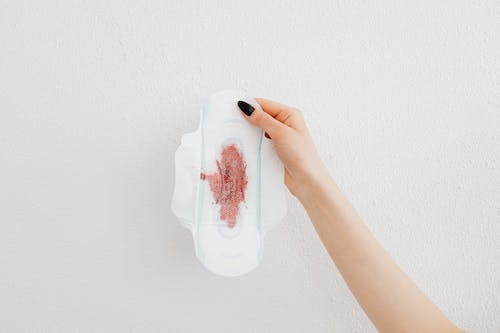blood: (198, 142, 249, 230)
